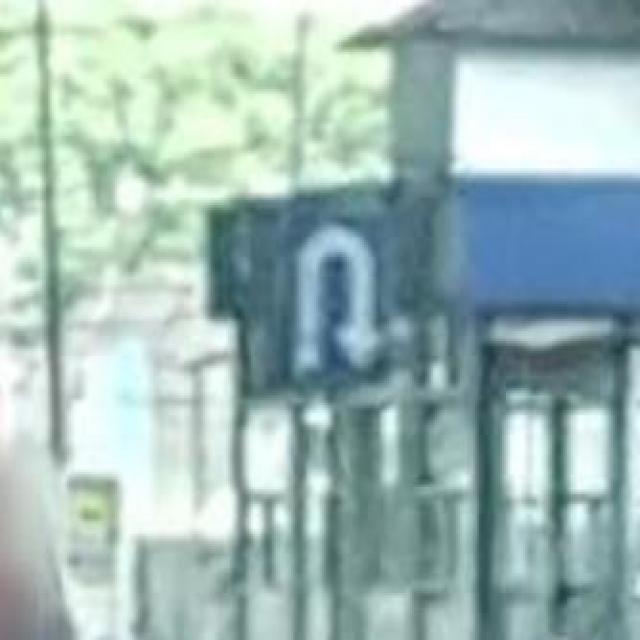traffic sign: (280, 203, 393, 388)
